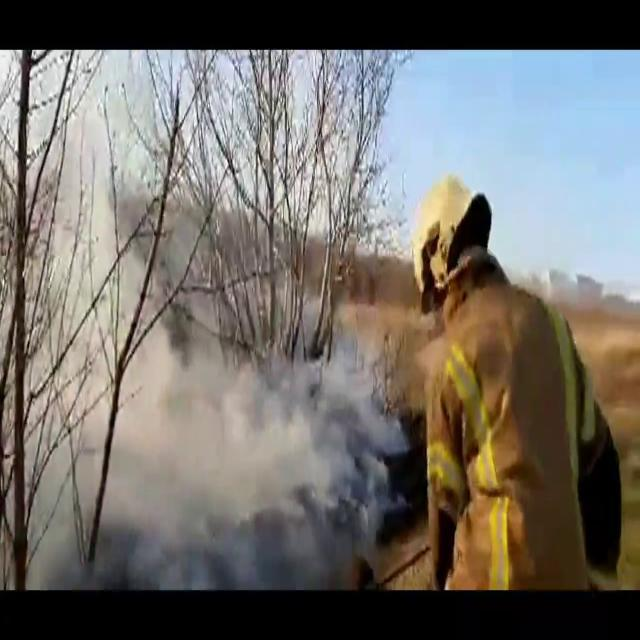Smoke: (15, 306, 401, 584)
